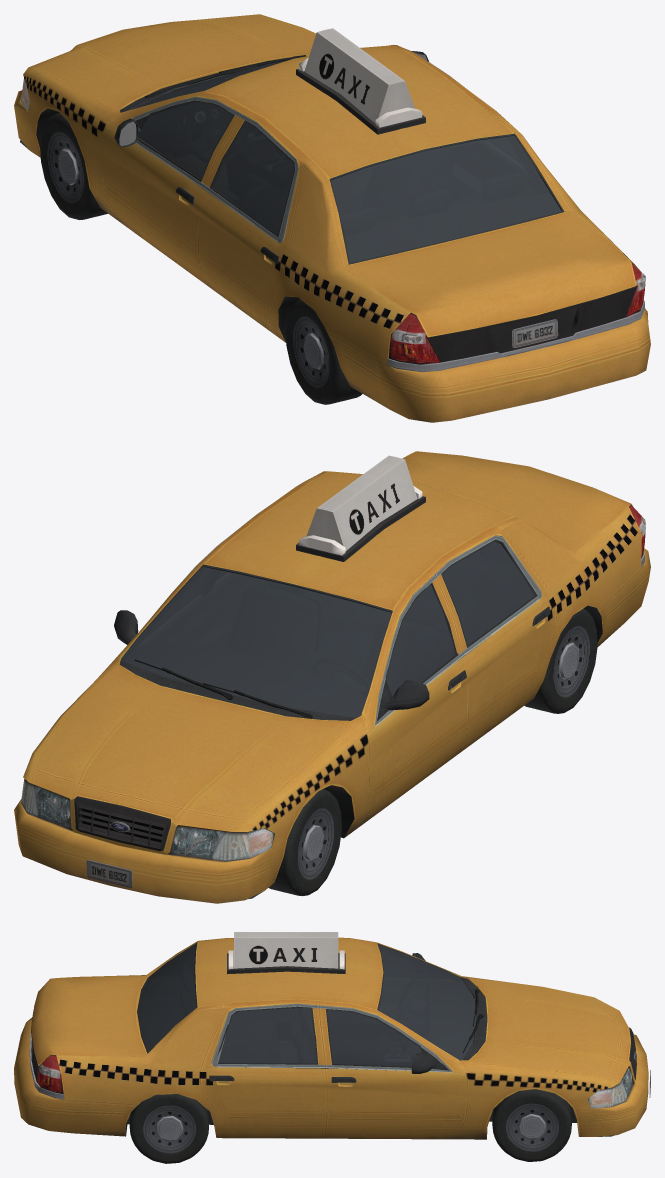
The model's file is Taxi.glb.
The picture shows the model from 3 angles, top to bottom: view 1: azimuth 30°, elevation 25°; view 2: azimuth 150°, elevation 25°; view 3: azimuth 270°, elevation 25°; orthographic projection. The views are drawn at different scales.
Visible parts, largest first — view 1: Taxi__LOD4; view 2: Taxi__LOD4; view 3: Taxi__LOD4.
Boxes of the visible parts, x1,y1,x2,y2 form: Taxi__LOD4: [14, 14, 650, 422]; Taxi__LOD4: [14, 451, 650, 903]; Taxi__LOD4: [14, 932, 650, 1163].
Bounding box in the file's own units: 2.21 × 1.73 × 5.41.
2 materials, 2 textured.
